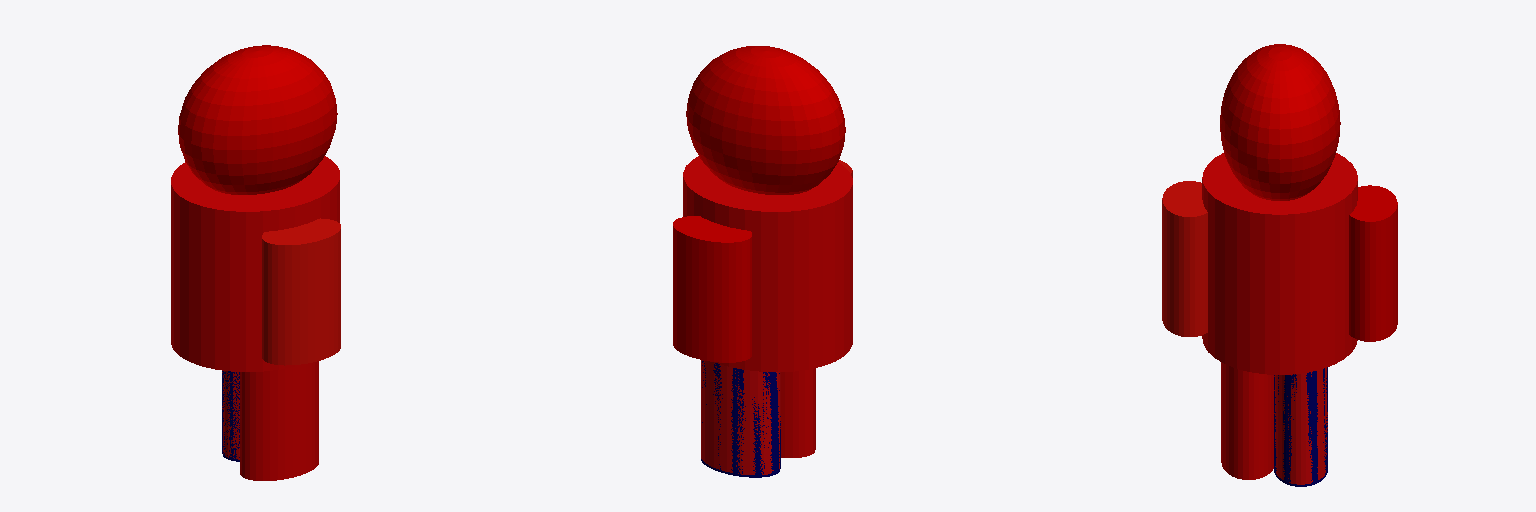
Rendered from player_red.obj.
The picture shows the model from 3 angles: view 1: azimuth 30°, elevation 25°; view 2: azimuth 150°, elevation 25°; view 3: azimuth 270°, elevation 25°; orthographic projection.
Visible parts, largest first — view 1: Cylinder.003_Cylinder.004, Sphere_Sphere.002, Cylinder.005_Cylinder.006, Cylinder.004_Cylinder.005, Cylinder_Cylinder.001, Cylinder.001_Cylinder.002; view 2: Cylinder.003_Cylinder.004, Sphere_Sphere.002, Cylinder.002_Cylinder.003, Cylinder_Cylinder.001, Cylinder.004_Cylinder.005, Cylinder.001_Cylinder.002; view 3: Cylinder.003_Cylinder.004, Sphere_Sphere.002, Cylinder.002_Cylinder.003, Cylinder.005_Cylinder.006, Cylinder.004_Cylinder.005, Cylinder_Cylinder.001, Cylinder.001_Cylinder.002.
Part boxes in pixels (x1,y1,x2,y2): Cylinder.003_Cylinder.004: (171,156,339,371); Sphere_Sphere.002: (178,45,337,194); Cylinder.005_Cylinder.006: (262,218,340,365); Cylinder.004_Cylinder.005: (240,361,318,480); Cylinder_Cylinder.001: (222,370,239,459); Cylinder.001_Cylinder.002: (222,371,239,461); Cylinder.003_Cylinder.004: (683,156,852,371); Sphere_Sphere.002: (686,46,845,194); Cylinder.002_Cylinder.003: (673,216,751,362); Cylinder_Cylinder.001: (701,360,780,474); Cylinder.004_Cylinder.005: (781,368,815,457); Cylinder.001_Cylinder.002: (701,361,780,477); Cylinder.003_Cylinder.004: (1202,153,1357,374); Sphere_Sphere.002: (1220,44,1340,200); Cylinder.002_Cylinder.003: (1349,185,1397,341); Cylinder.005_Cylinder.006: (1162,181,1207,336); Cylinder.004_Cylinder.005: (1221,362,1273,479); Cylinder_Cylinder.001: (1274,368,1327,484); Cylinder.001_Cylinder.002: (1274,367,1327,486).
Bounding box in the file's own units: 0.2768 × 0.7146 × 0.3726.